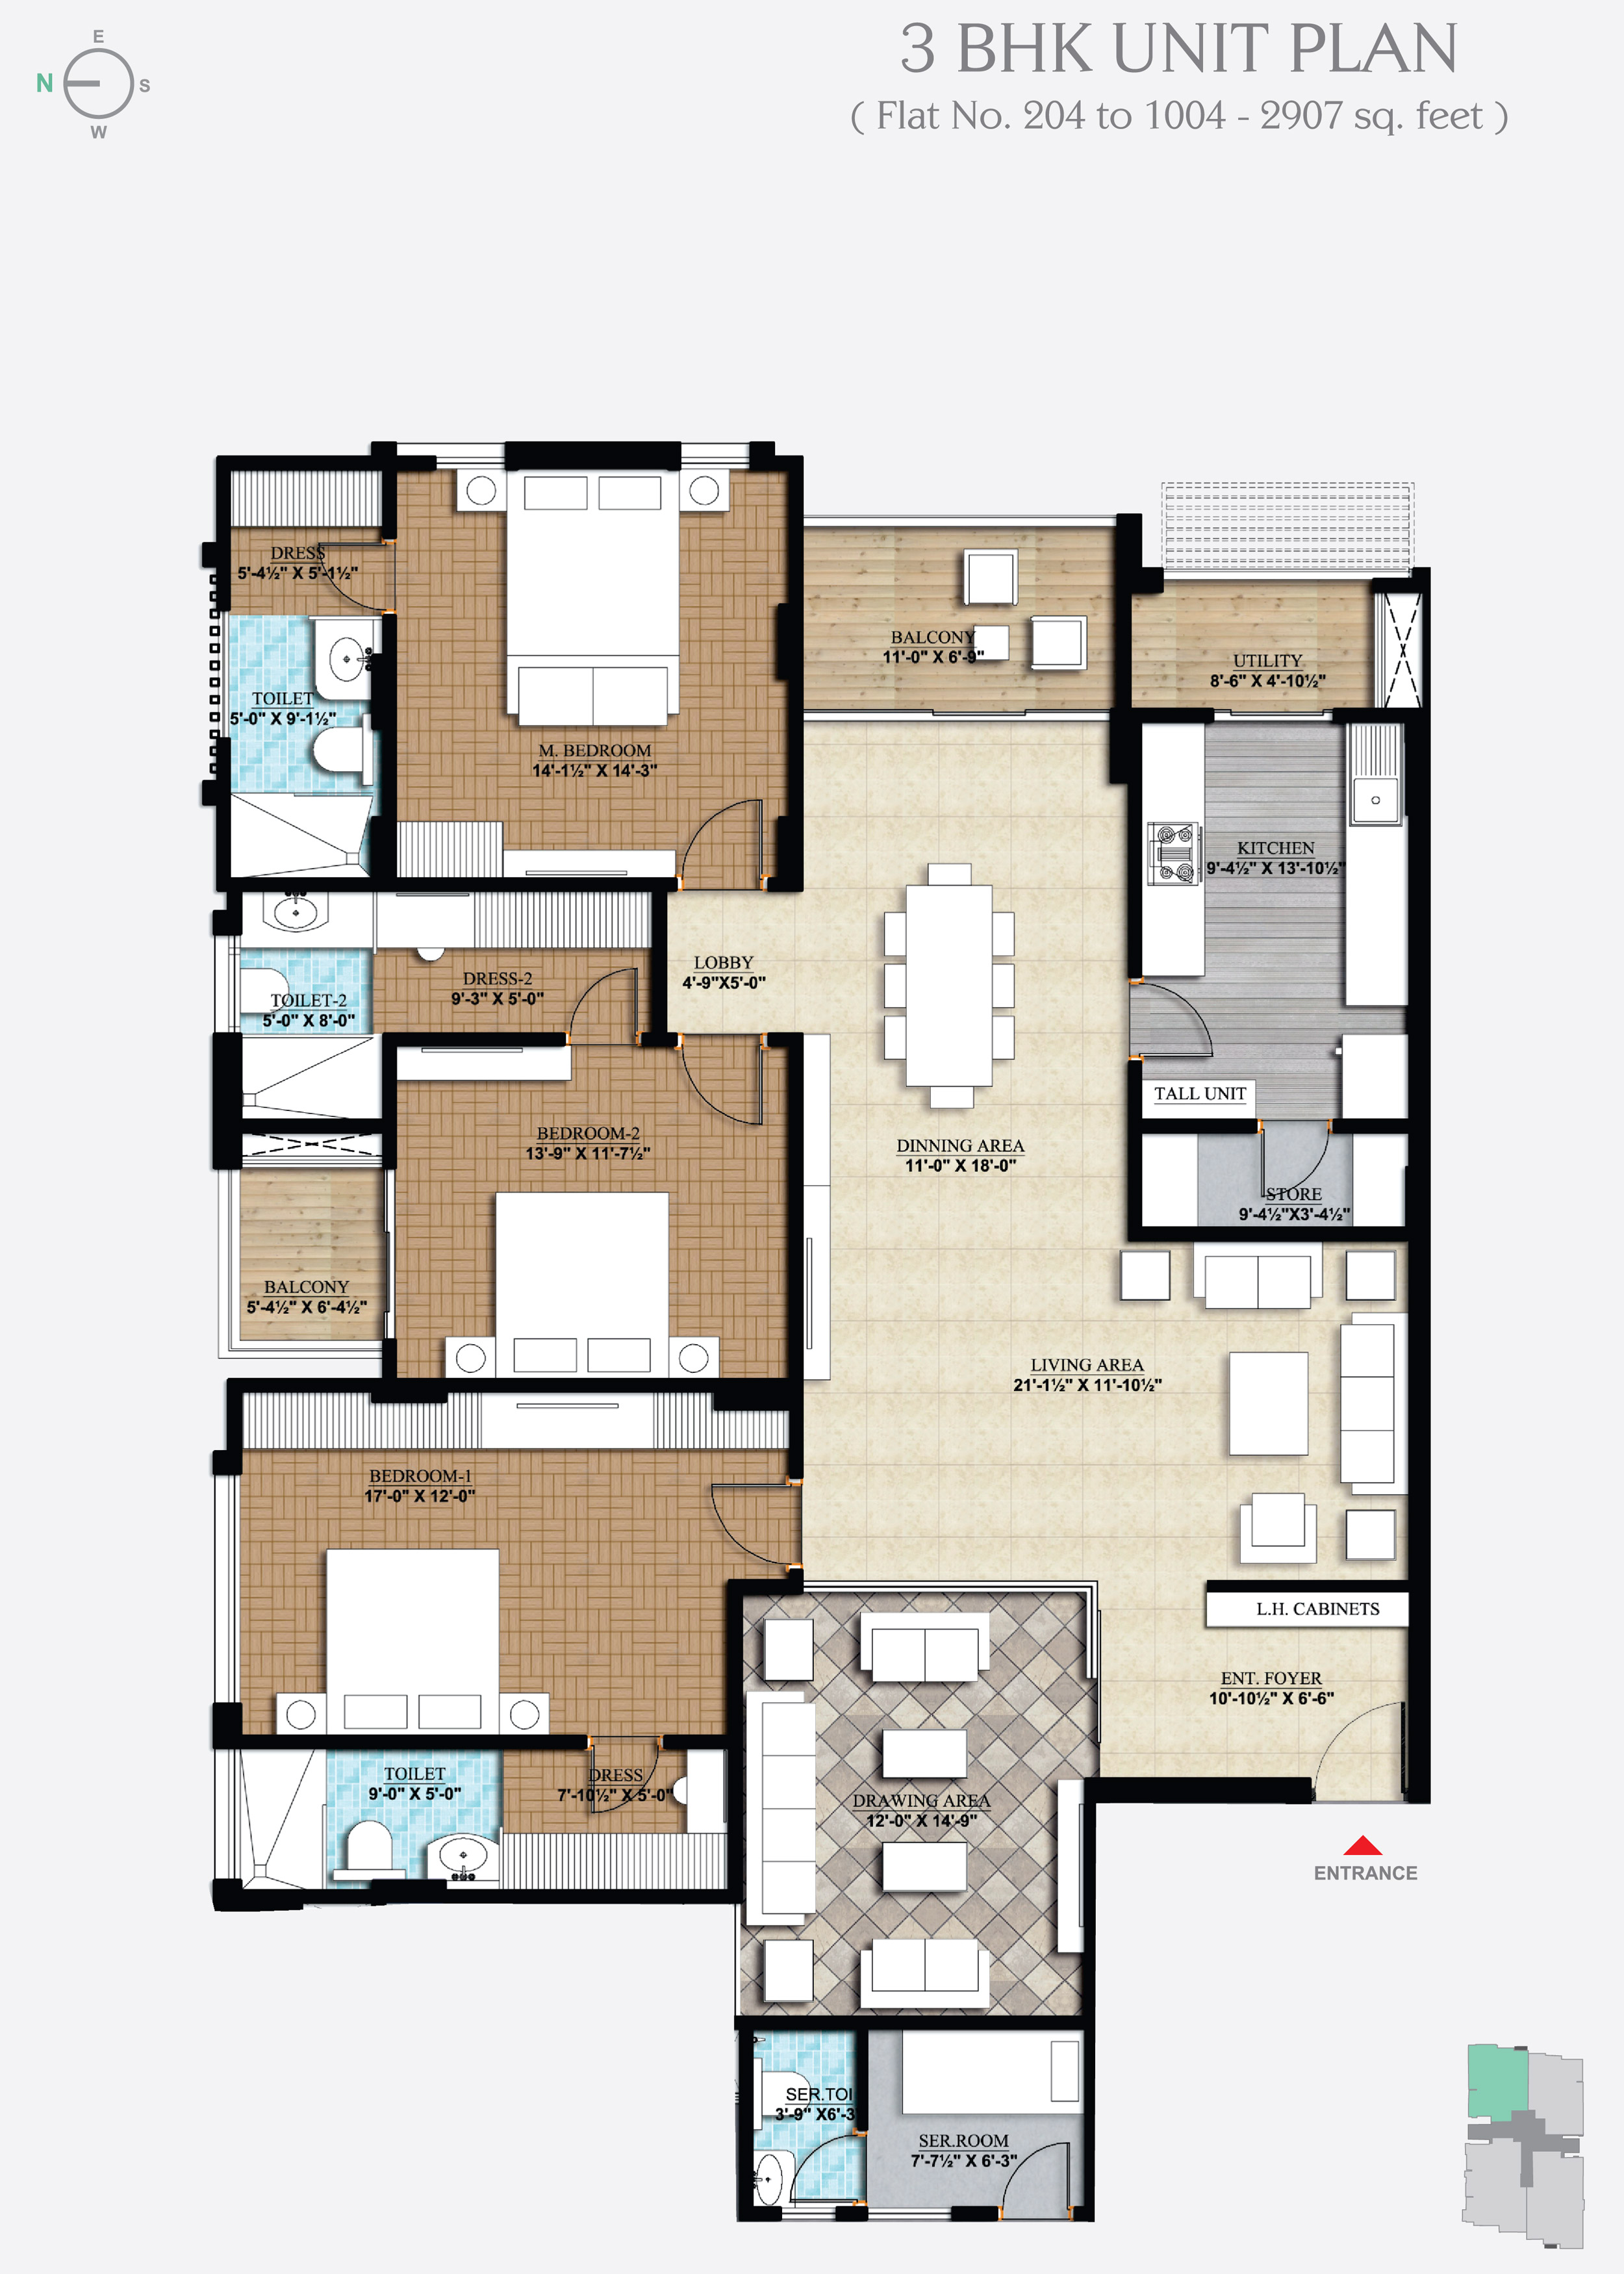door: (705, 1480, 801, 1568), (1127, 981, 1222, 1061), (677, 1053, 766, 1126), (680, 798, 766, 872)
